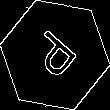P_SE: (25, 25, 85, 85)
